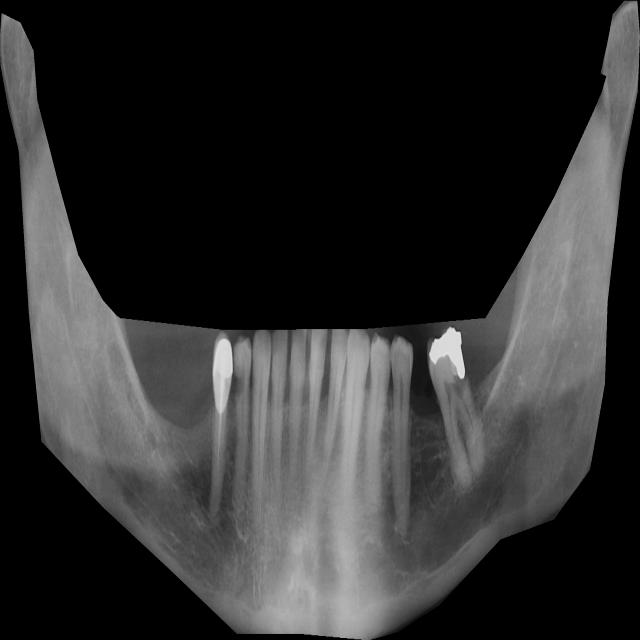mandibula: (0, 1, 640, 640)
